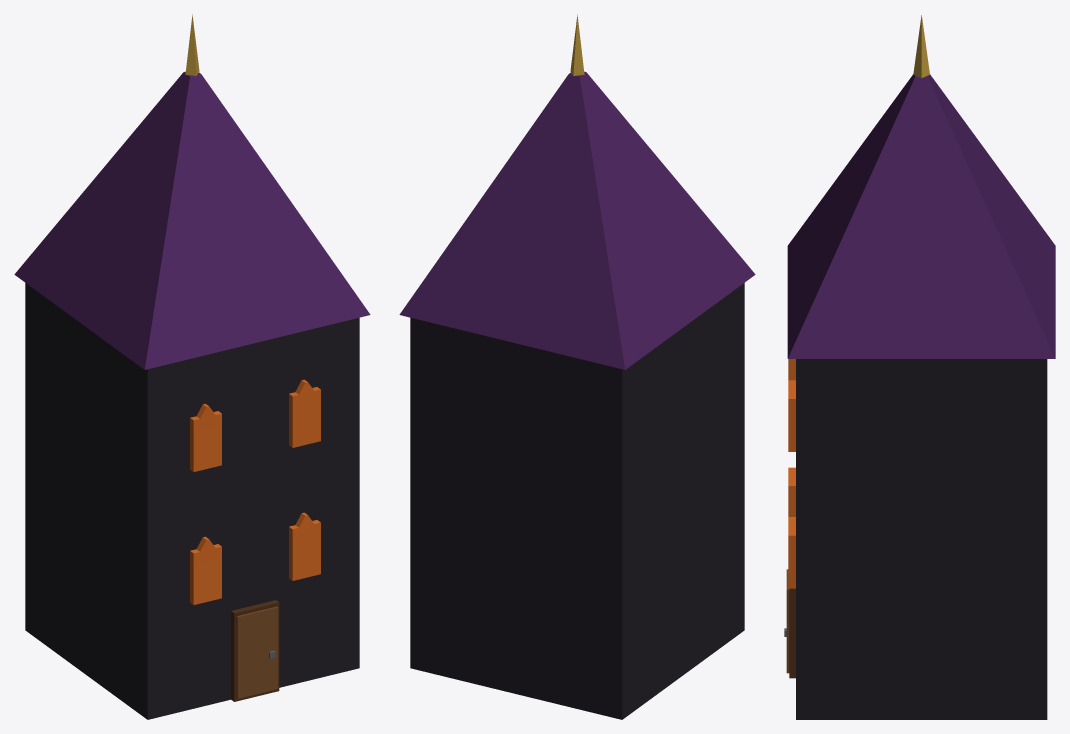
The model's file is demon_house_a_broken.glb.
3 renders of one model, left to right at view 1: azimuth 30°, elevation 25°; view 2: azimuth 150°, elevation 25°; view 3: azimuth 270°, elevation 25°, orthographic. The views are drawn at different scales.
Visible parts, largest first — view 1: demon_house_a_piece4, demon_house_a_piece0, demon_house_a_piece3, demon_house_a_piece5, demon_house_a_piece13, demon_house_a_piece10, demon_house_a_piece7, demon_house_a_piece11, demon_house_a_piece8, demon_house_a_piece6; view 2: demon_house_a_piece3, demon_house_a_piece1, demon_house_a_piece0, demon_house_a_piece6, demon_house_a_piece11, demon_house_a_piece10, demon_house_a_piece4, demon_house_a_piece8, demon_house_a_piece2, demon_house_a_piece13; view 3: demon_house_a_piece1, demon_house_a_piece6, demon_house_a_piece7, demon_house_a_piece5, demon_house_a_piece4, demon_house_a_piece9, demon_house_a_piece2, demon_house_a_piece11, demon_house_a_piece10.
Boxes of the visible parts, left/top/right/bottom form: demon_house_a_piece4: left=123, top=128, right=370, bottom=553; demon_house_a_piece0: left=59, top=164, right=208, bottom=679; demon_house_a_piece3: left=14, top=250, right=121, bottom=700; demon_house_a_piece5: left=178, top=339, right=359, bottom=712; demon_house_a_piece13: left=111, top=480, right=255, bottom=719; demon_house_a_piece10: left=107, top=82, right=228, bottom=266; demon_house_a_piece7: left=214, top=549, right=359, bottom=703; demon_house_a_piece11: left=34, top=193, right=82, bottom=350; demon_house_a_piece8: left=77, top=365, right=136, bottom=711; demon_house_a_piece6: left=160, top=14, right=283, bottom=191; demon_house_a_piece3: left=451, top=335, right=718, bottom=719; demon_house_a_piece1: left=399, top=199, right=557, bottom=677; demon_house_a_piece0: left=594, top=209, right=749, bottom=590; demon_house_a_piece6: left=481, top=14, right=589, bottom=296; demon_house_a_piece11: left=538, top=251, right=671, bottom=379; demon_house_a_piece10: left=573, top=76, right=676, bottom=244; demon_house_a_piece4: left=629, top=123, right=755, bottom=291; demon_house_a_piece8: left=674, top=379, right=733, bottom=648; demon_house_a_piece2: left=561, top=200, right=610, bottom=272; demon_house_a_piece13: left=707, top=524, right=744, bottom=637; demon_house_a_piece1: left=848, top=224, right=1055, bottom=719; demon_house_a_piece6: left=814, top=15, right=1030, bottom=408; demon_house_a_piece7: left=786, top=435, right=940, bottom=719; demon_house_a_piece5: left=784, top=335, right=859, bottom=649; demon_house_a_piece4: left=787, top=115, right=887, bottom=451; demon_house_a_piece9: left=932, top=625, right=962, bottom=719; demon_house_a_piece2: left=944, top=157, right=1018, bottom=719; demon_house_a_piece11: left=1004, top=176, right=1055, bottom=283; demon_house_a_piece10: left=883, top=76, right=988, bottom=161.
Size of the model in its own units: 1.6 by 4.3 by 1.62.
